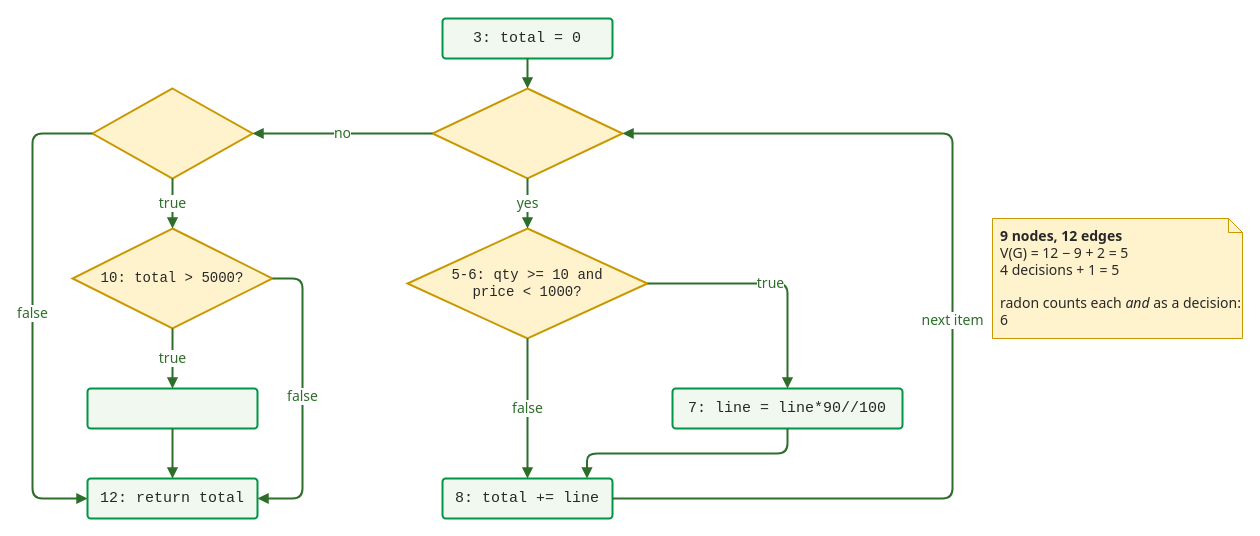
This 1260x536 diagram has some shape labels left out. Each missing label, with the centre of its shape:
11: total -= 500: point (172, 408)
4: more items?: point (527, 133)
9: member?: point (172, 133)
